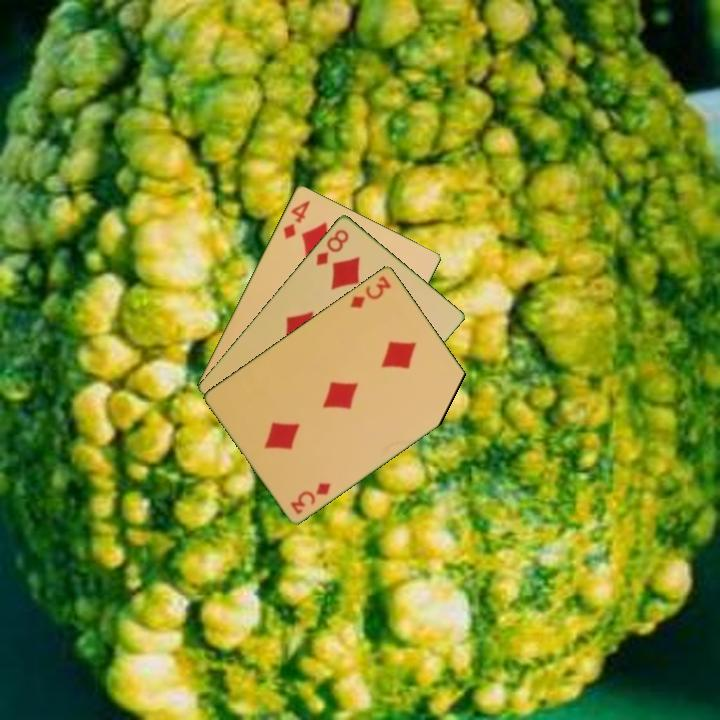3d: (347, 272, 394, 311), (286, 479, 334, 517)
4d: (280, 196, 313, 242)
8d: (312, 225, 352, 268)
